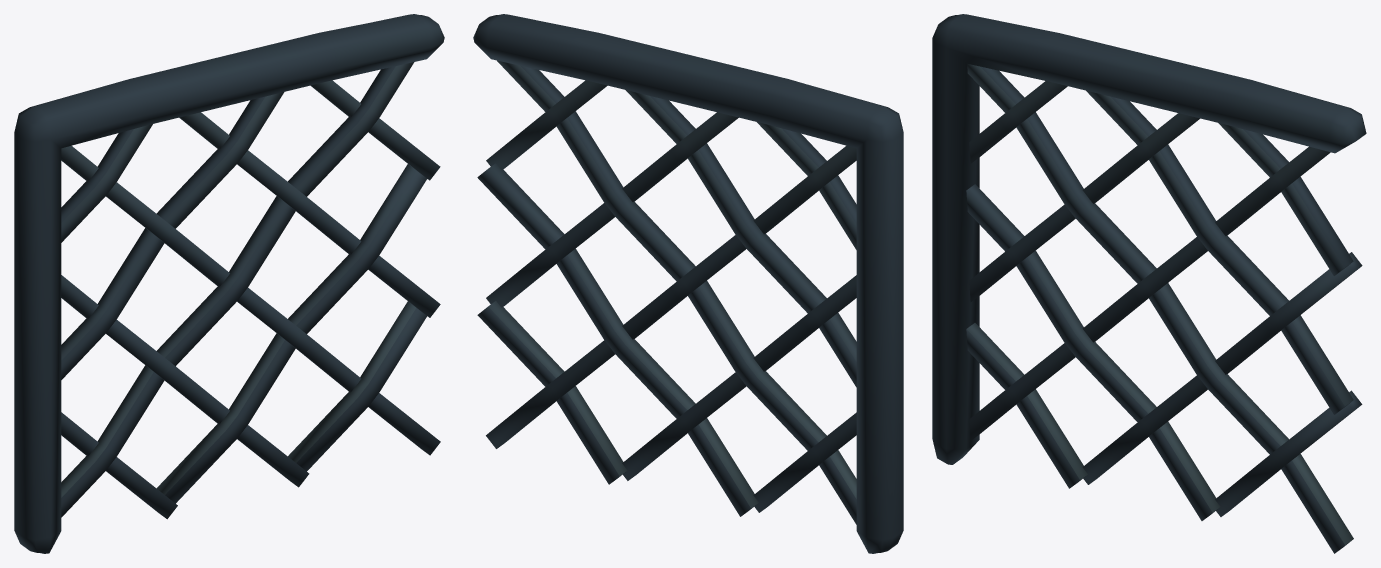
The model's file is Metal_Fence_Grid_FrameCorner.fbx.
The picture shows the model from 3 angles, left to right: view 1: azimuth 30°, elevation 25°; view 2: azimuth 150°, elevation 25°; view 3: azimuth 330°, elevation 25°; orthographic projection.
Parts seen in each view (by area): view 1: Metal_Fence_Grid_FrameCorner_LOD0; view 2: Metal_Fence_Grid_FrameCorner_LOD0; view 3: Metal_Fence_Grid_FrameCorner_LOD0.
Part boxes in pixels (left/top/right/bottom): Metal_Fence_Grid_FrameCorner_LOD0: left=14, top=14, right=444, bottom=553; Metal_Fence_Grid_FrameCorner_LOD0: left=473, top=14, right=903, bottom=553; Metal_Fence_Grid_FrameCorner_LOD0: left=932, top=14, right=1366, bottom=553.
Size of what is drawn, in the model's own units: 1.07 by 1.08 by 0.1127.
